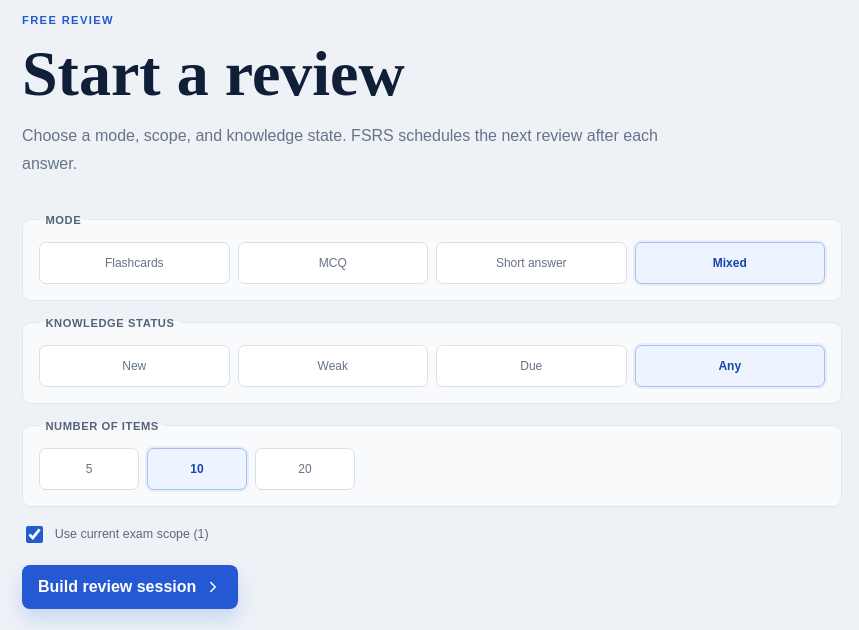
it: uses the sl global level when building a scoped review
What coordinates should you click on to do the following:
click the button "Flashcards"
I would click on:
 (134, 263)
Its box is [39, 242, 230, 284].
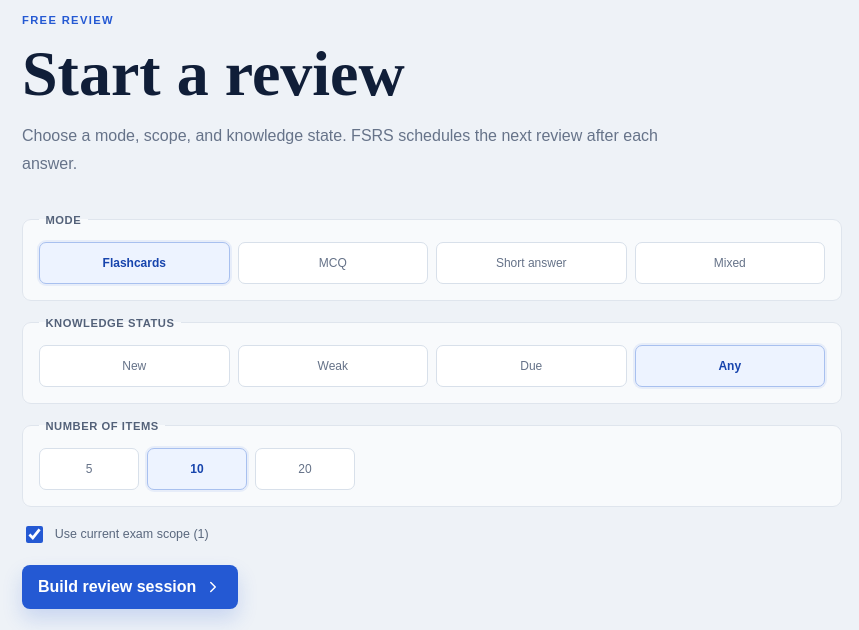
What coordinates should you click on to do the following:
click the button "Build review session"
I would click on:
 (130, 587)
Its box is [22, 565, 238, 609].
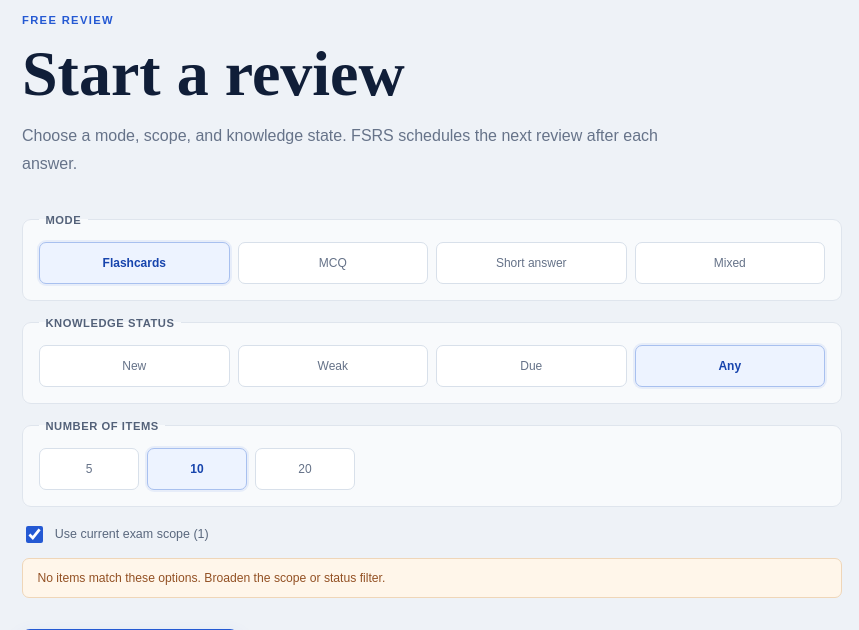
Expected: the message shows "No items match", [37, 571, 385, 585]
